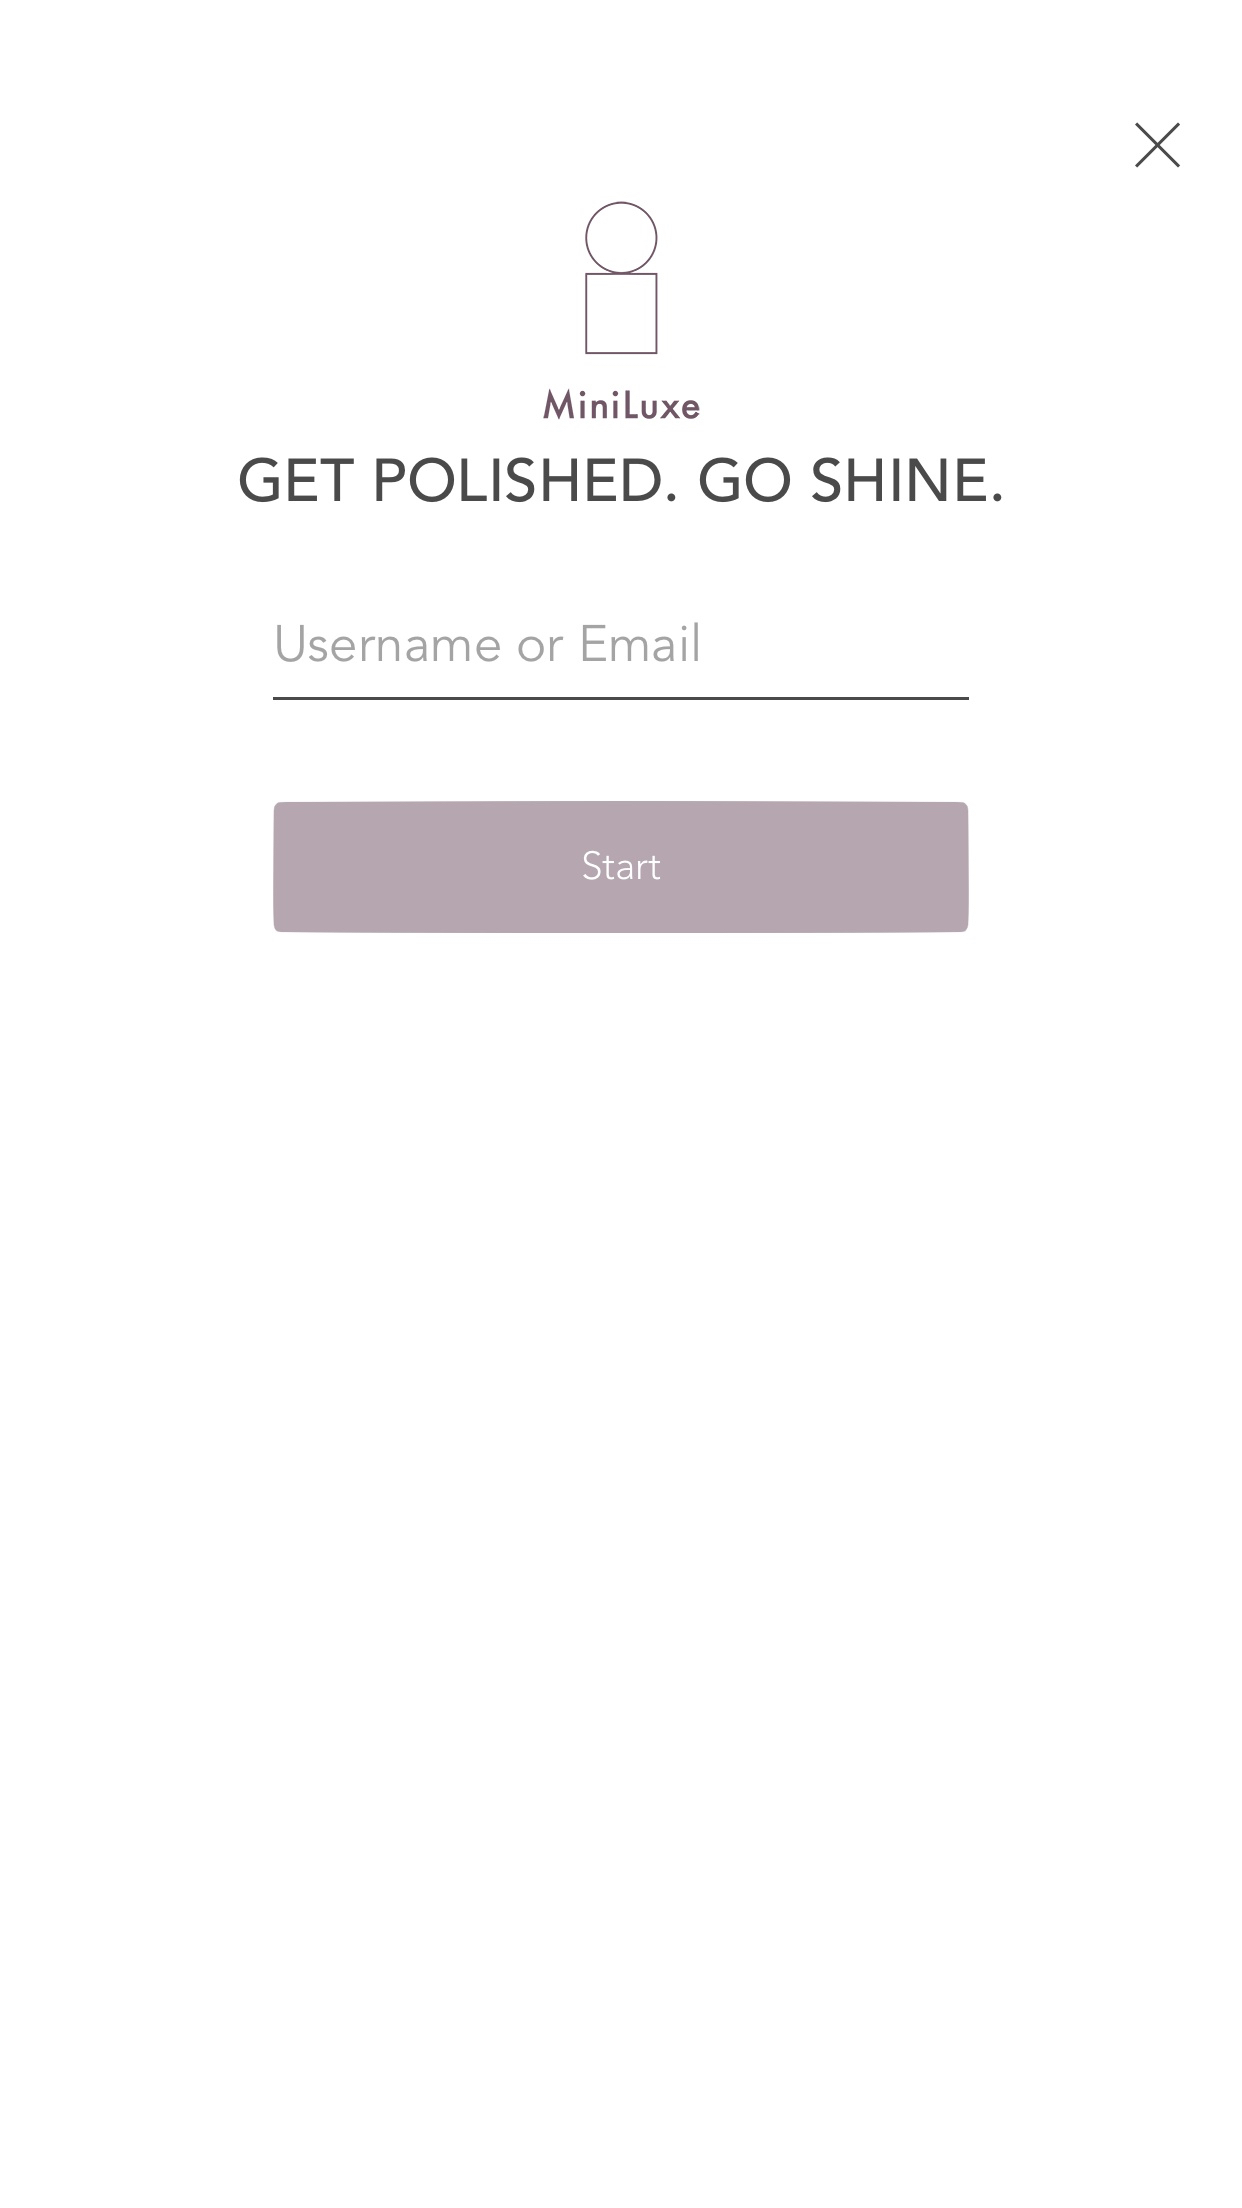EditText: (273, 622, 971, 701)
Icon: (1134, 121, 1181, 168)
Image: (584, 202, 660, 356)
Text: (240, 456, 1002, 503), (278, 622, 701, 663), (543, 388, 701, 422)
TextButton: (274, 801, 971, 933)
